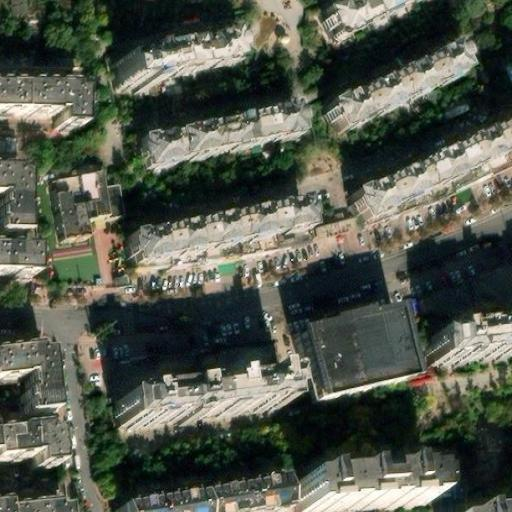building: (355, 127, 512, 226), (323, 55, 464, 146), (119, 193, 302, 260), (133, 100, 297, 170), (301, 332, 418, 429), (102, 380, 276, 433), (292, 455, 426, 510), (48, 169, 120, 252), (109, 480, 274, 512), (156, 17, 237, 71), (426, 315, 512, 364), (113, 58, 172, 106), (0, 424, 58, 469), (0, 168, 27, 231), (0, 497, 72, 512), (0, 245, 35, 275)
